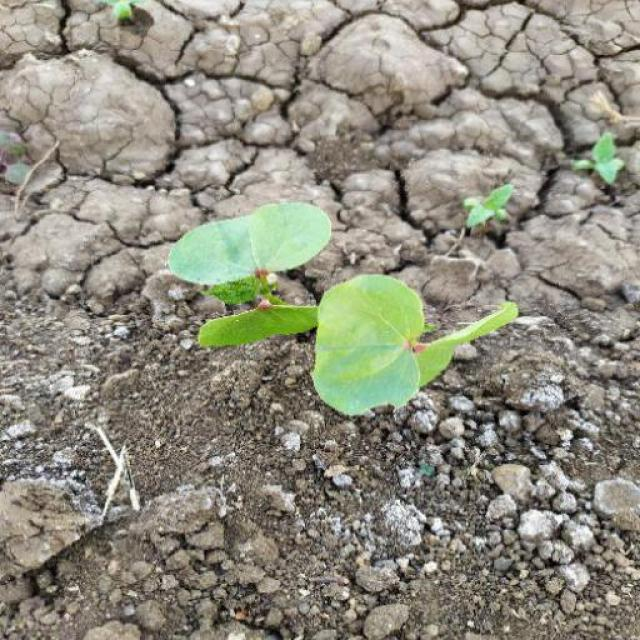weed: (165, 196, 526, 432)
